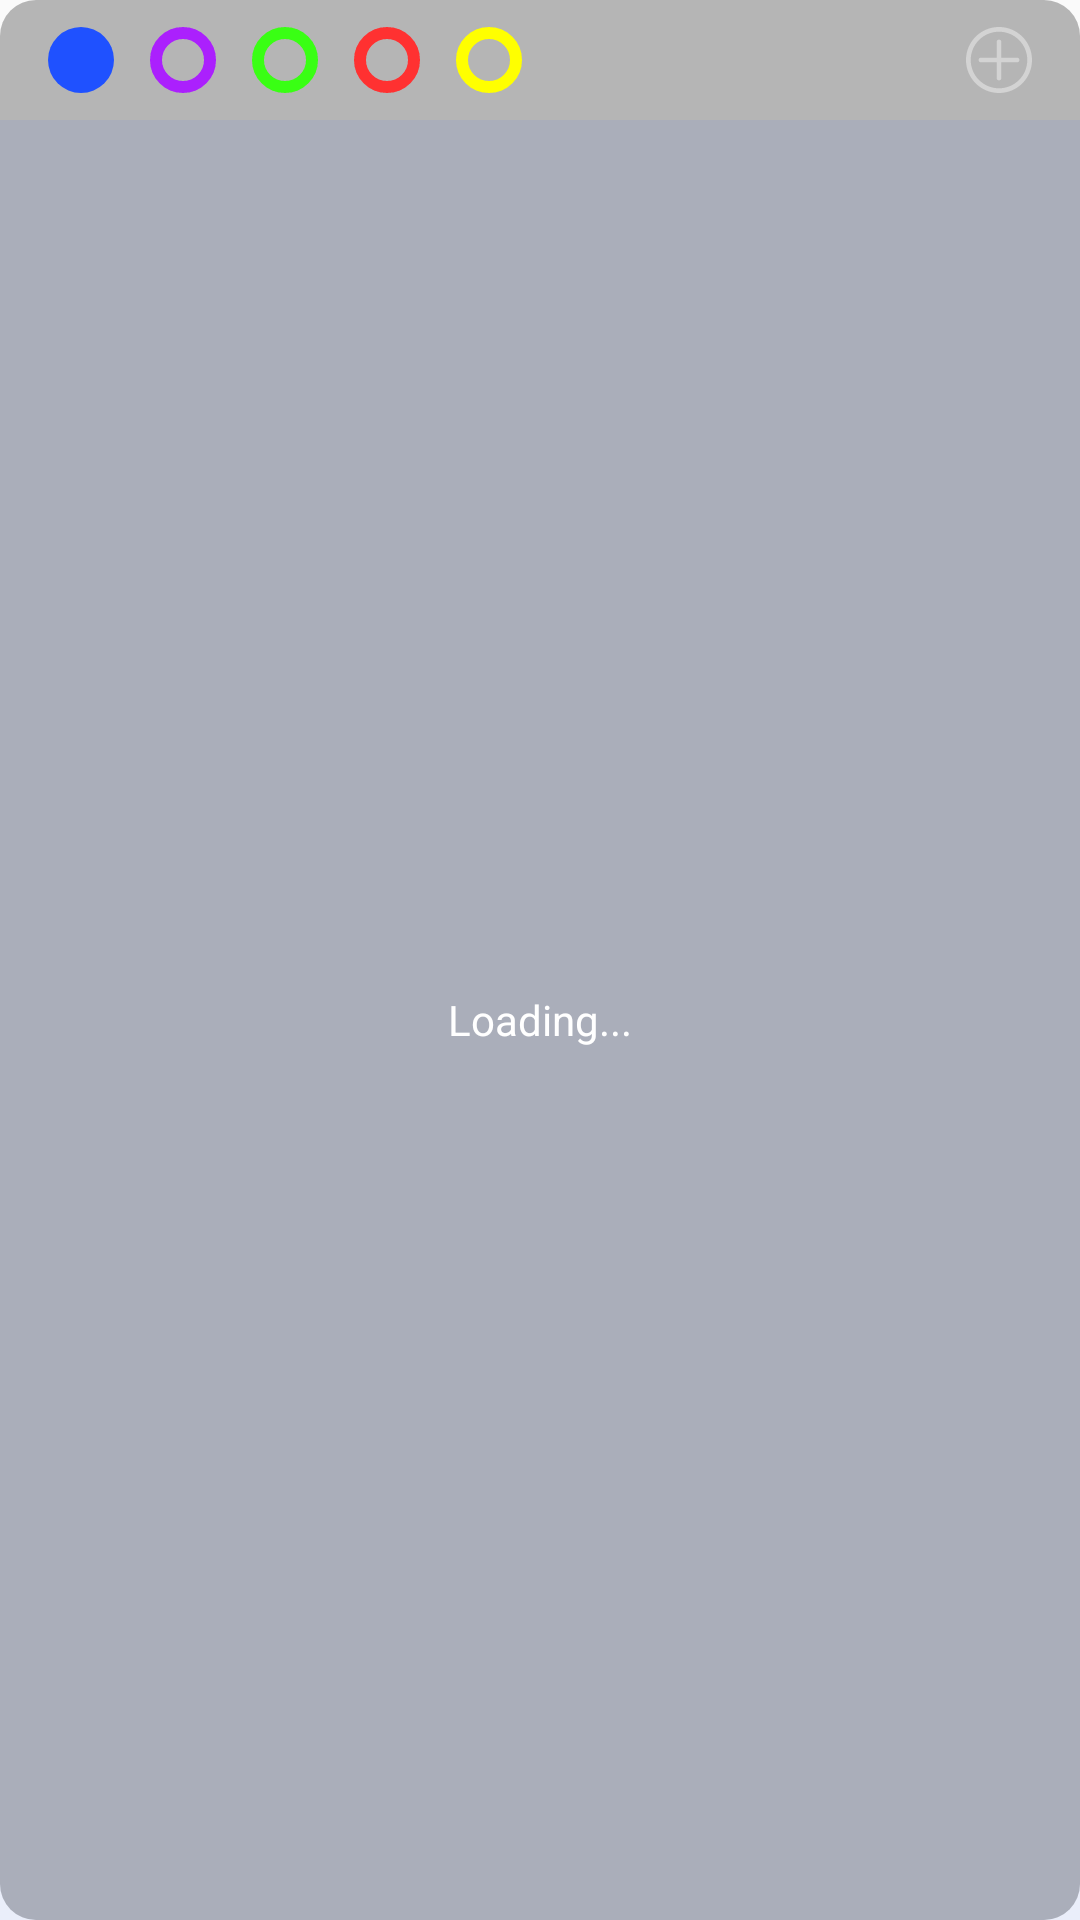

Icon click points for this 1080 × 1920 phone screenshot, format [x,y]:
add: [999,60]
